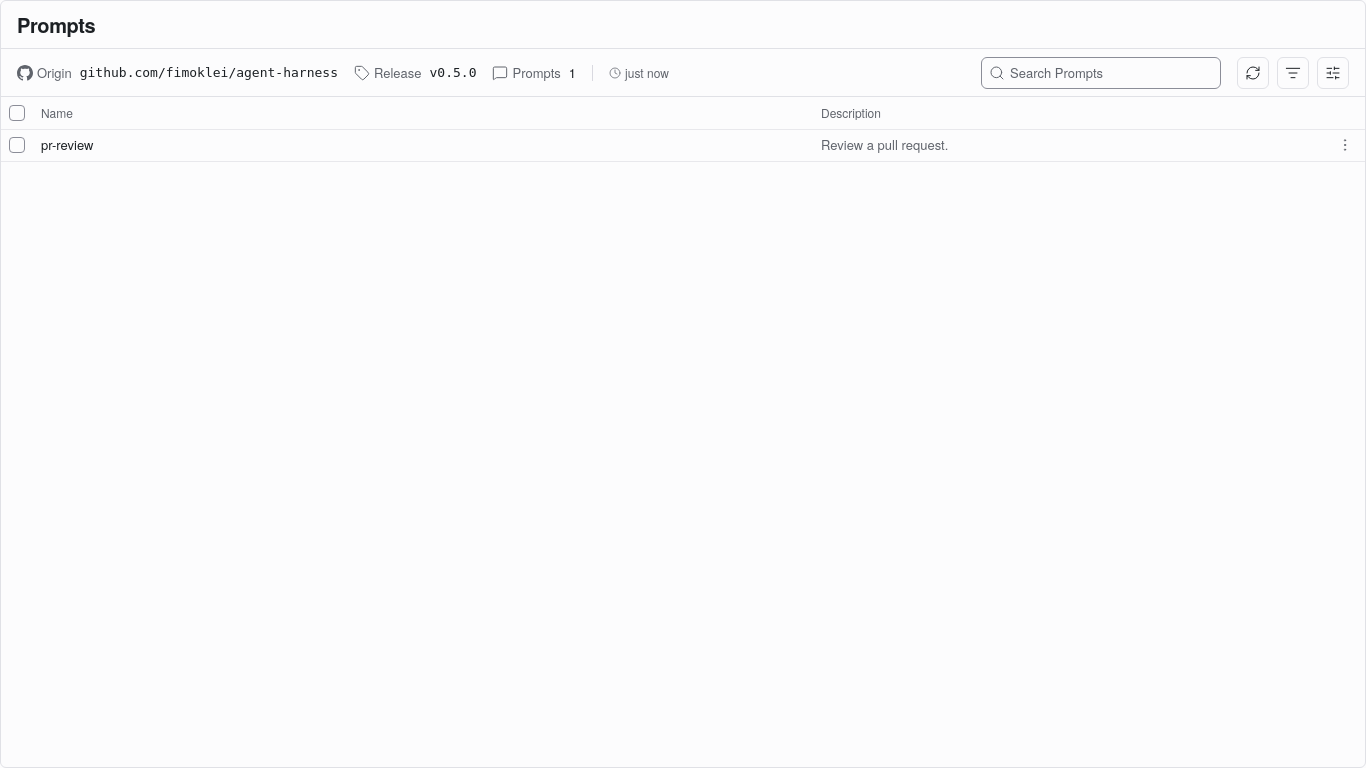
Test: Prompts — Edit prompt › lists Edit prompt after Copy prompt, before the divider and Delete prompt
The image size is (1366, 768).
Step 1. Click the button named "Actions for pr-review" → (1345, 144), box top-left (1333, 132), bottom-right (1357, 156)
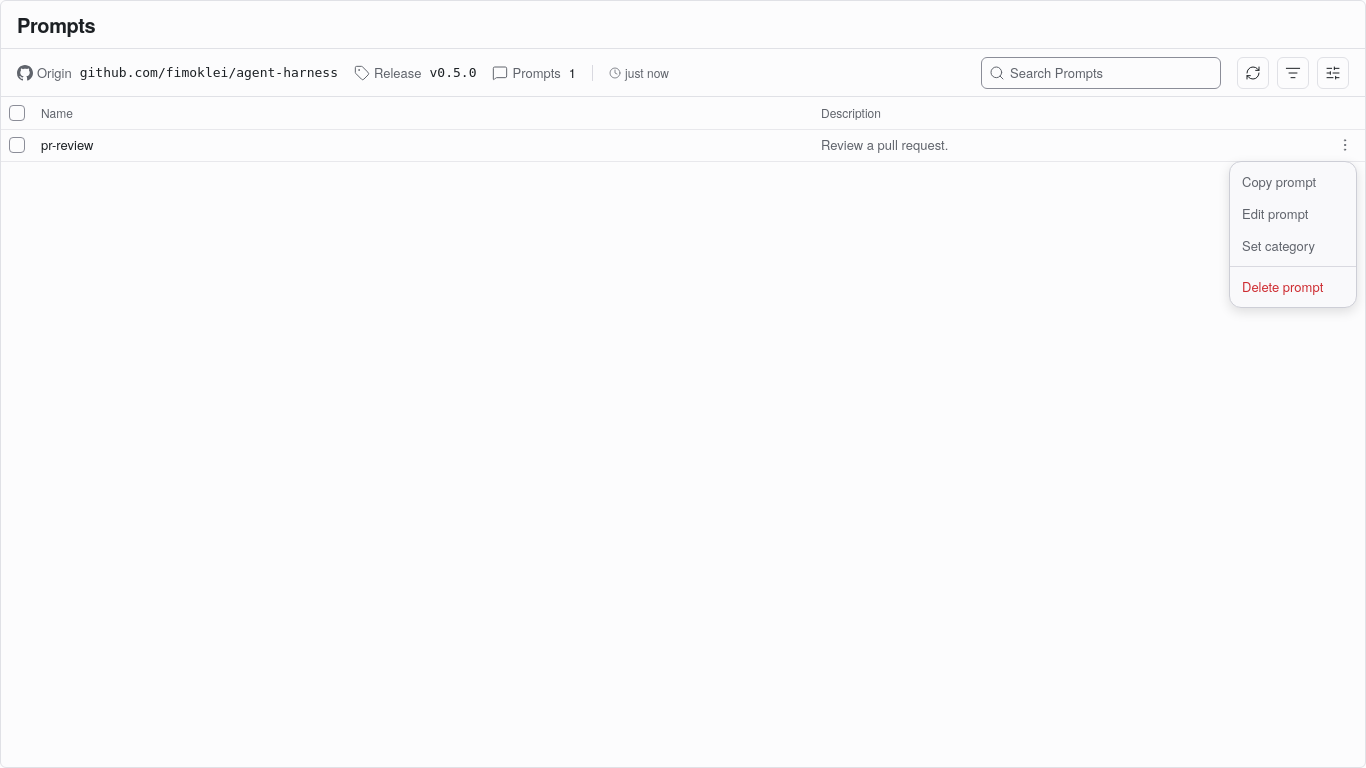
Now the menu items read "Copy prompt", "Edit prompt", "Set category", "Delete prompt", in this order, box top-left (1242, 172), bottom-right (1316, 191); top-left (1242, 204), bottom-right (1308, 223); top-left (1242, 236), bottom-right (1315, 255); top-left (1242, 277), bottom-right (1323, 296)
